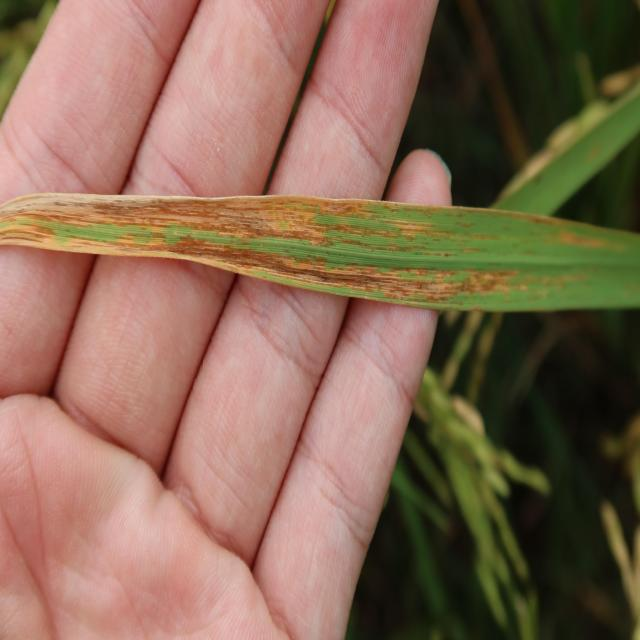Dom soc vi khuan: (0, 191, 519, 309)
